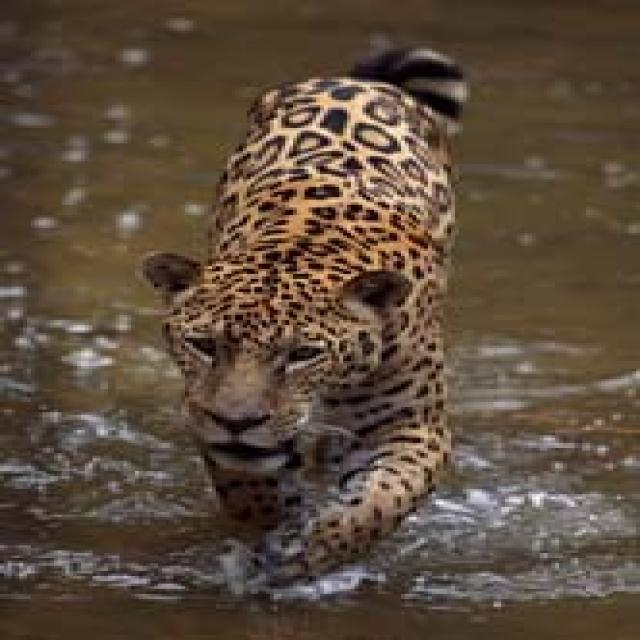Leopard: (127, 20, 478, 589)
